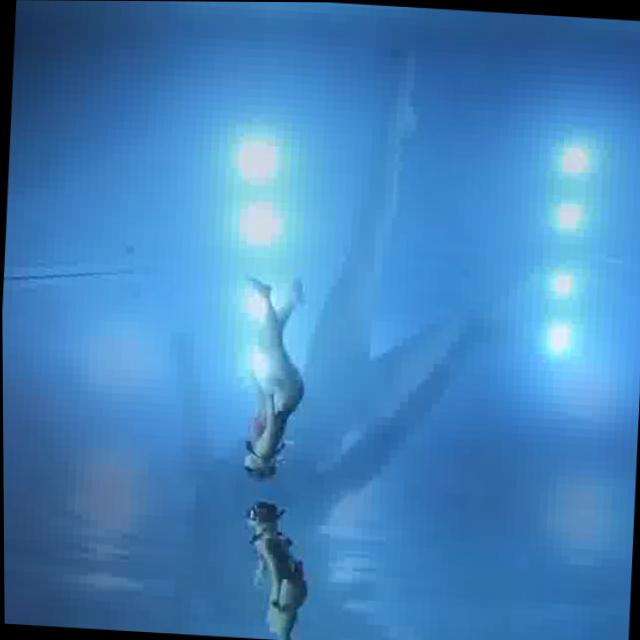human: (229, 261, 318, 487), (230, 498, 327, 640)
